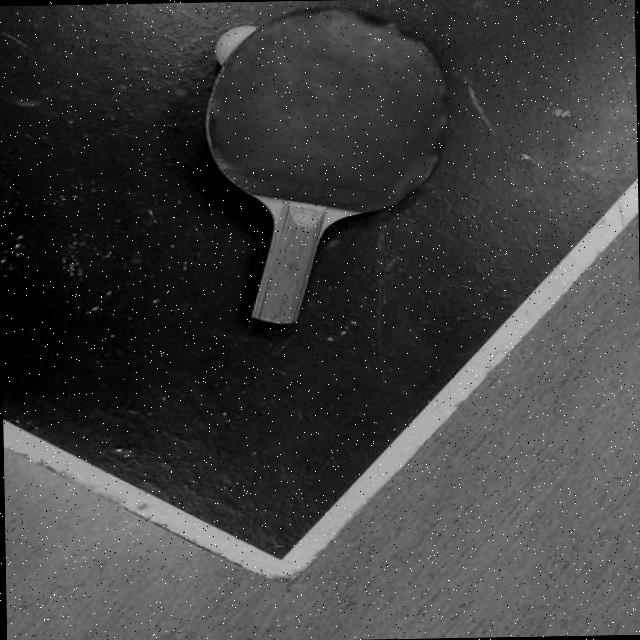ping-pong-ball: (212, 24, 280, 69)
